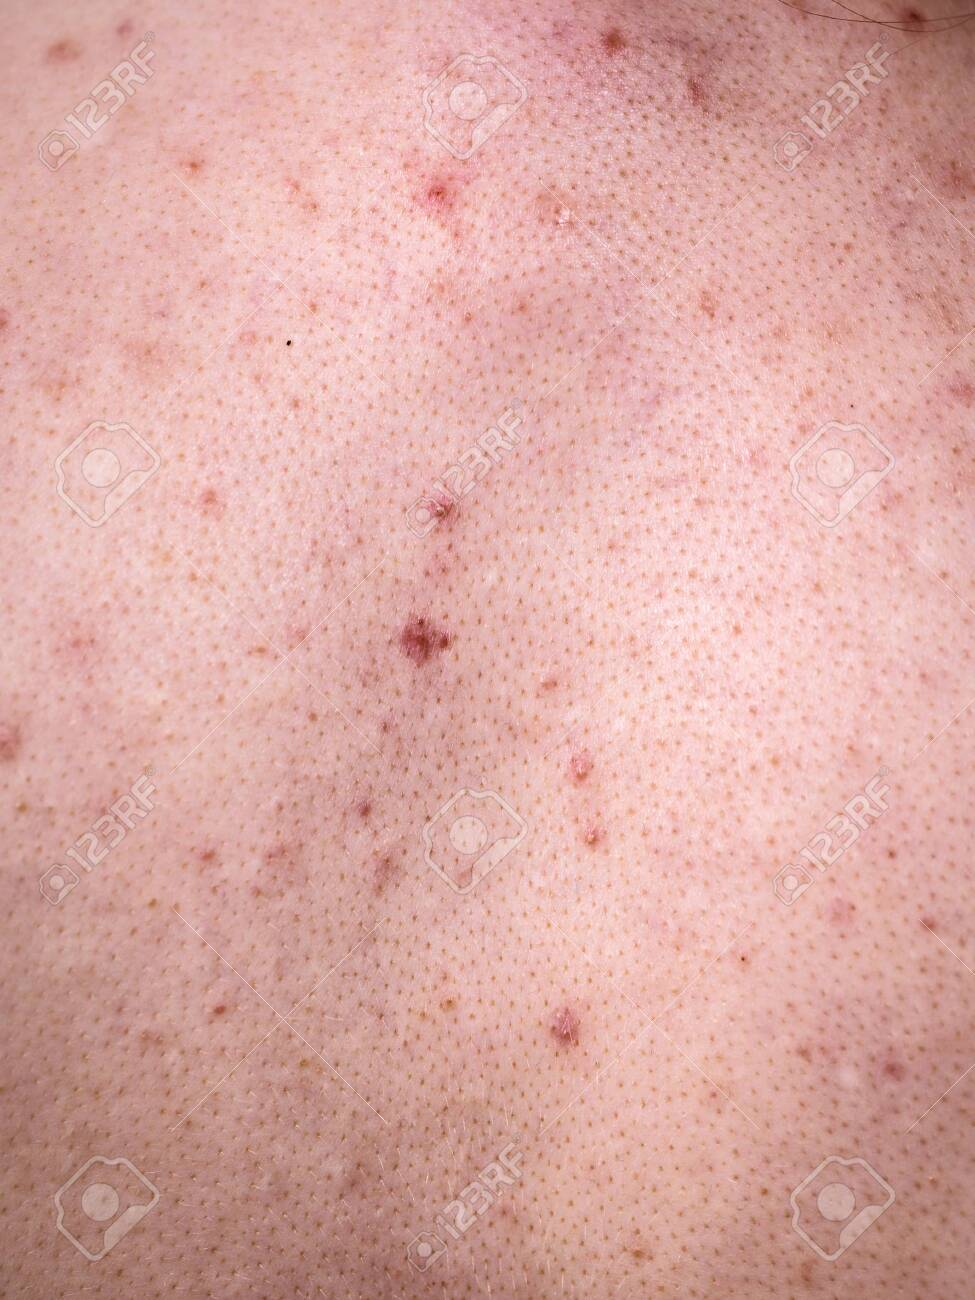acene: (124, 170, 793, 1108)
